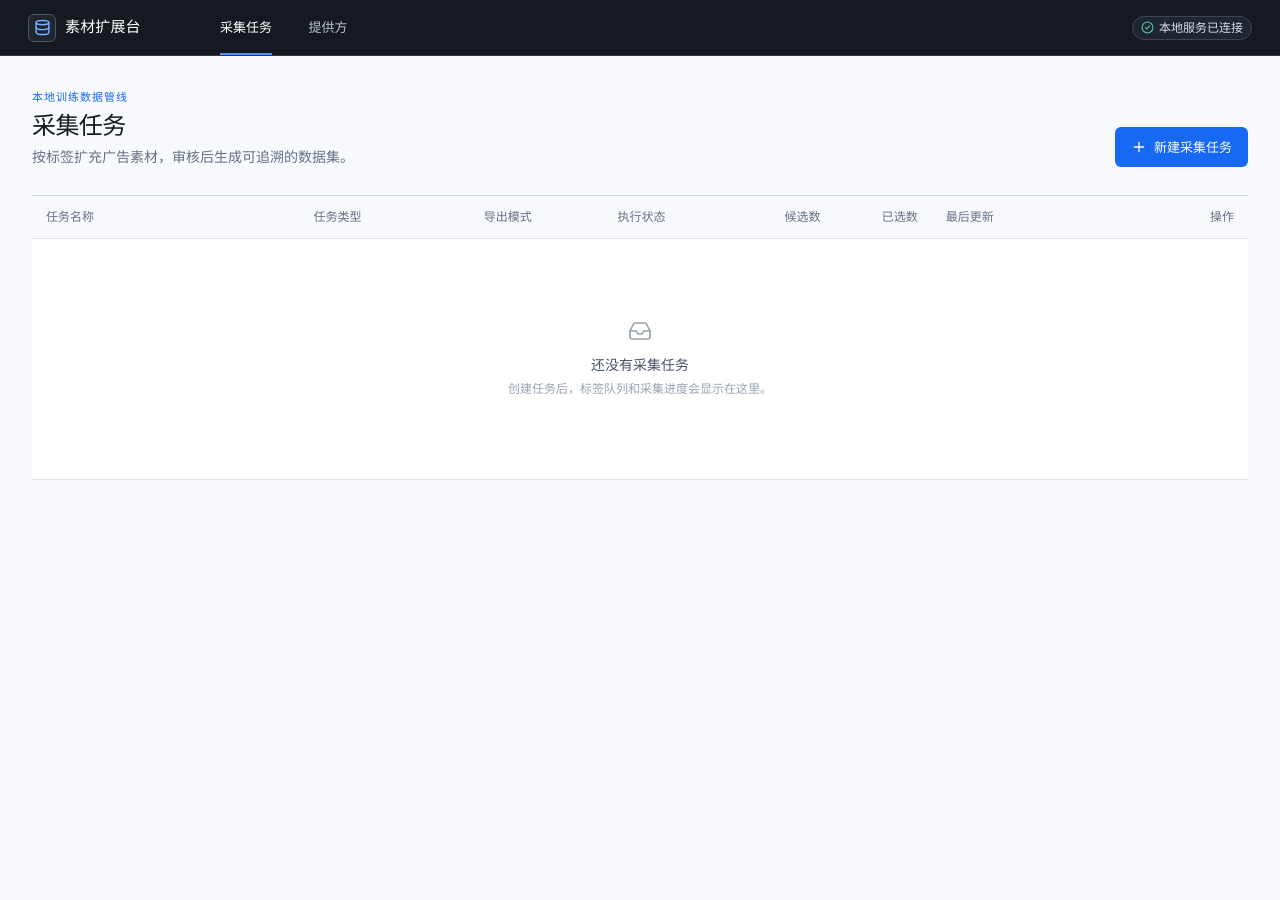
Test: 新建采集任务 › creates a job from a pasted taxonomy path
Click the button "新建采集任务" at [1182, 147], box [1115,127,1248,167]
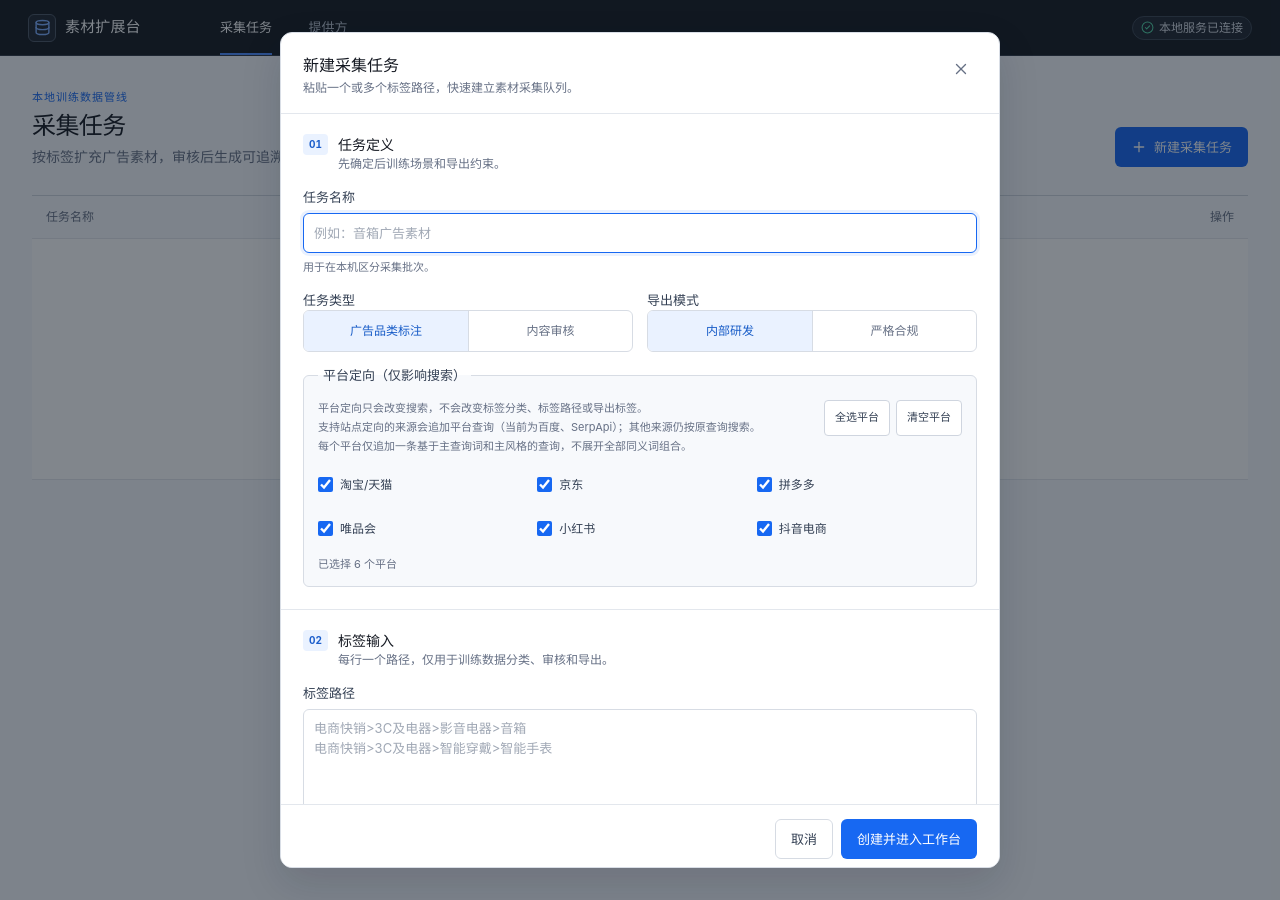
Type "音箱广告素材" into the field labelled "任务名称" at [640, 233], box [303,213,977,253]
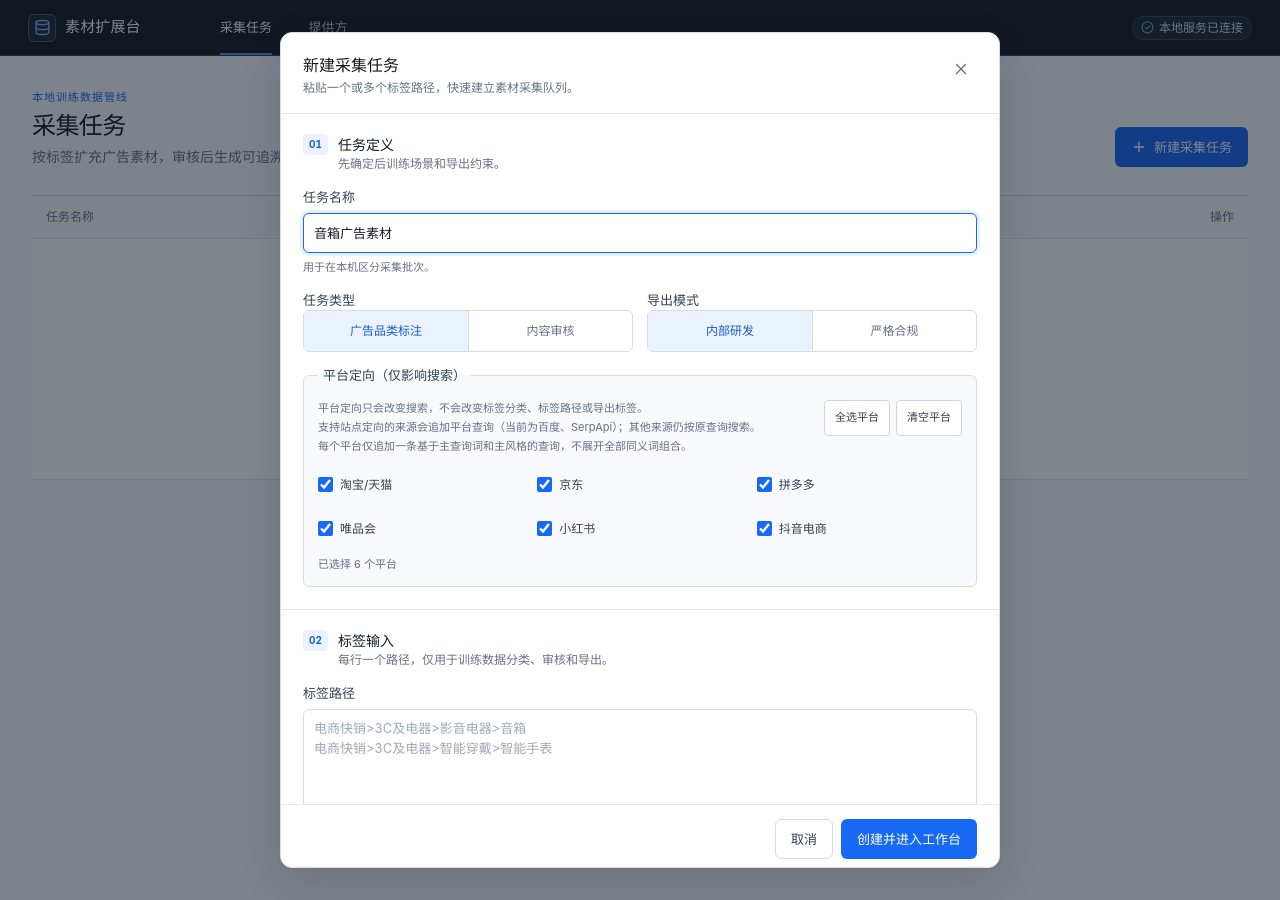
Type "电商快销>3C及电器>影音电器>音箱" into the text box labelled "标签路径" at [640, 768], box [303,709,977,827]
(page scrolled)
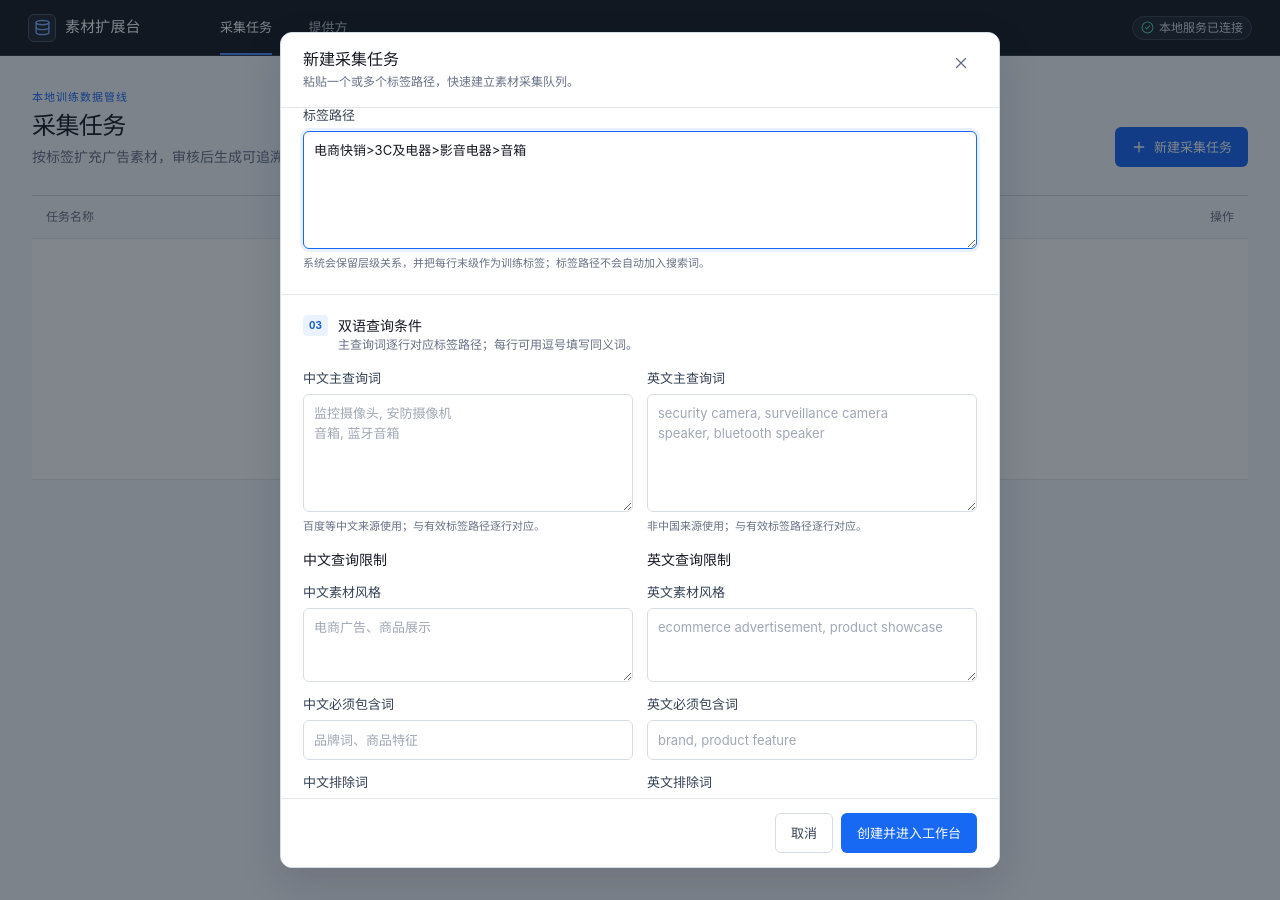
Type "音箱" into the text box labelled "中文主查询词" at [468, 453], box [303,394,633,512]
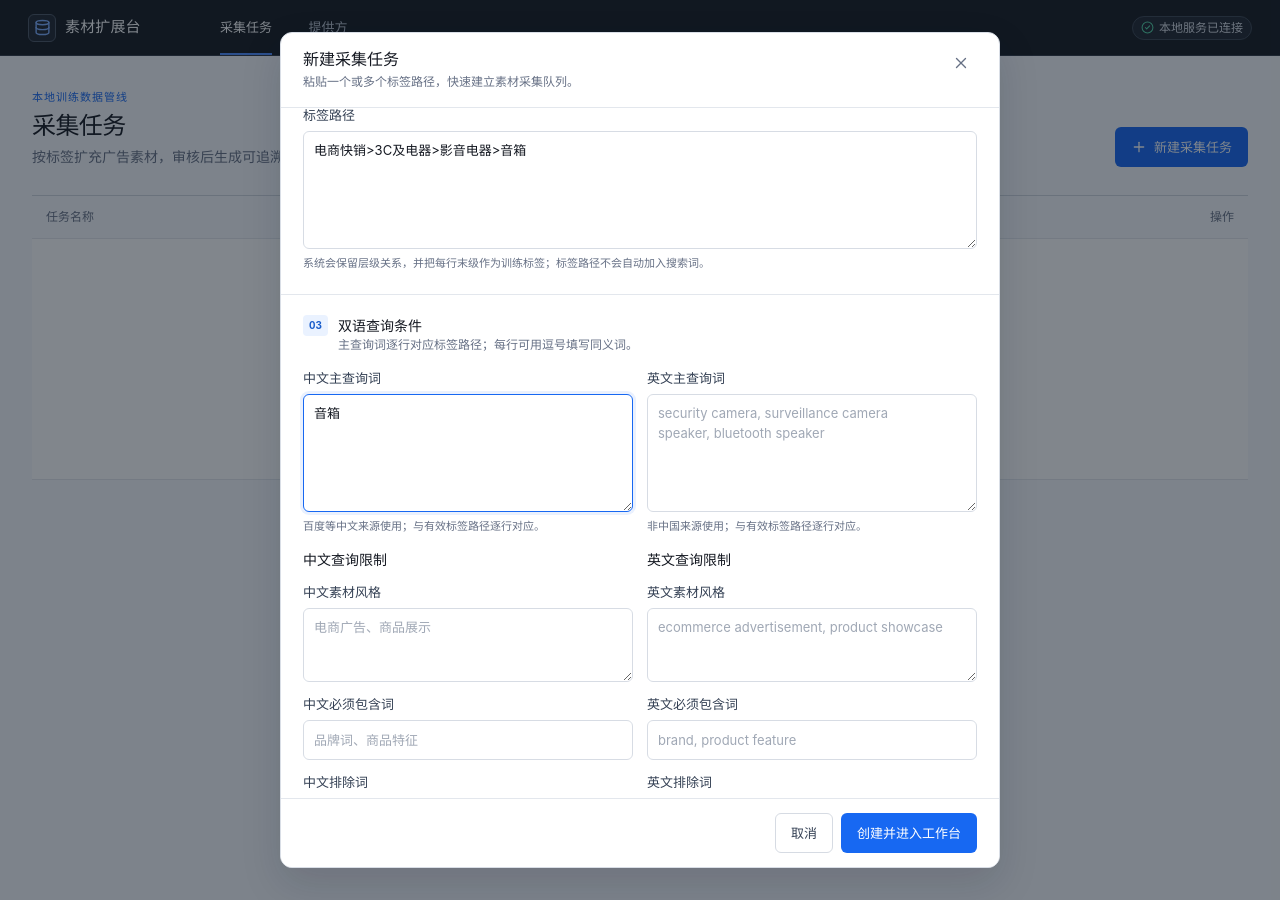
Type "speaker" into the text box labelled "英文主查询词" at [812, 453], box [647,394,977,512]
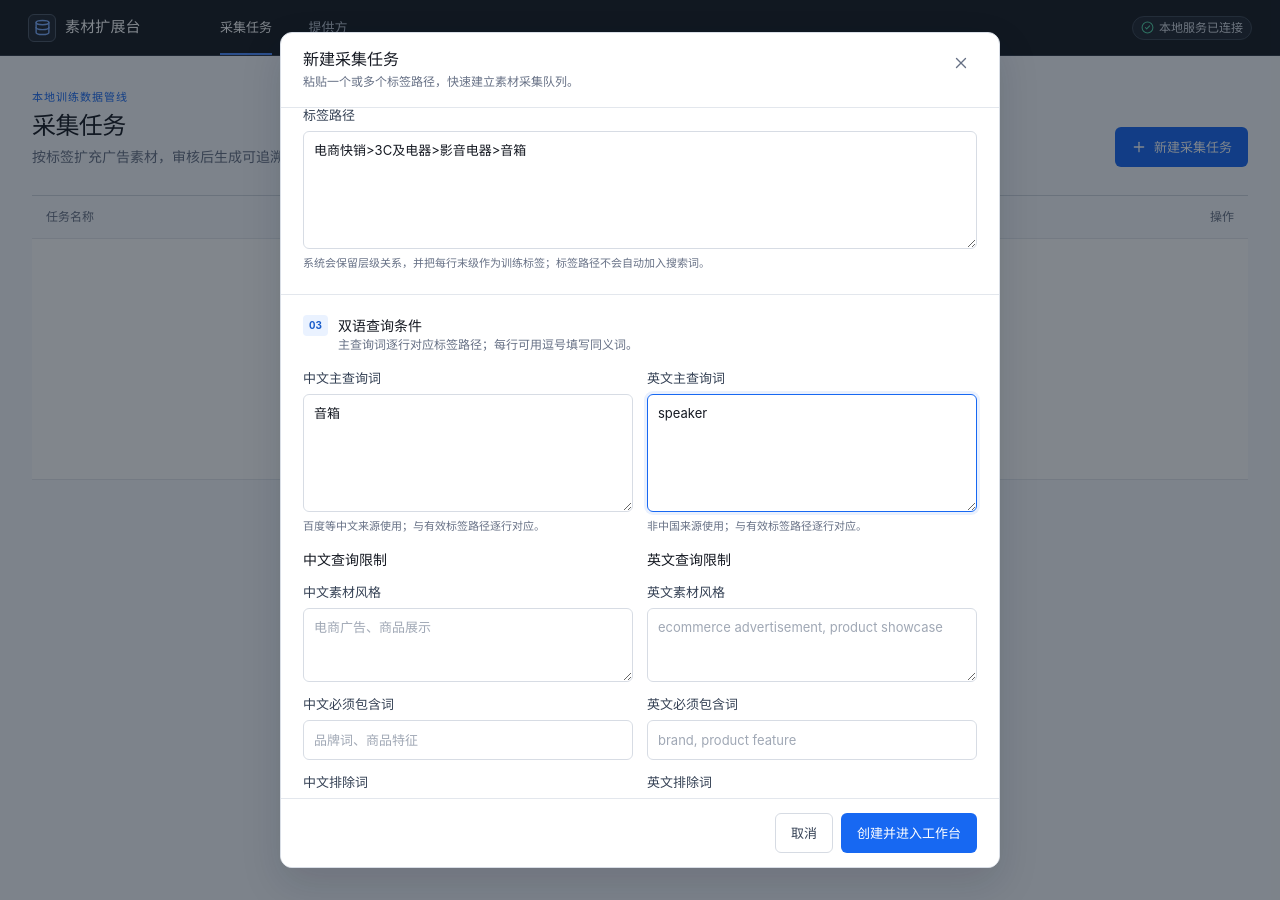
Click the button "创建并进入工作台" at [909, 833], box [841,813,977,853]
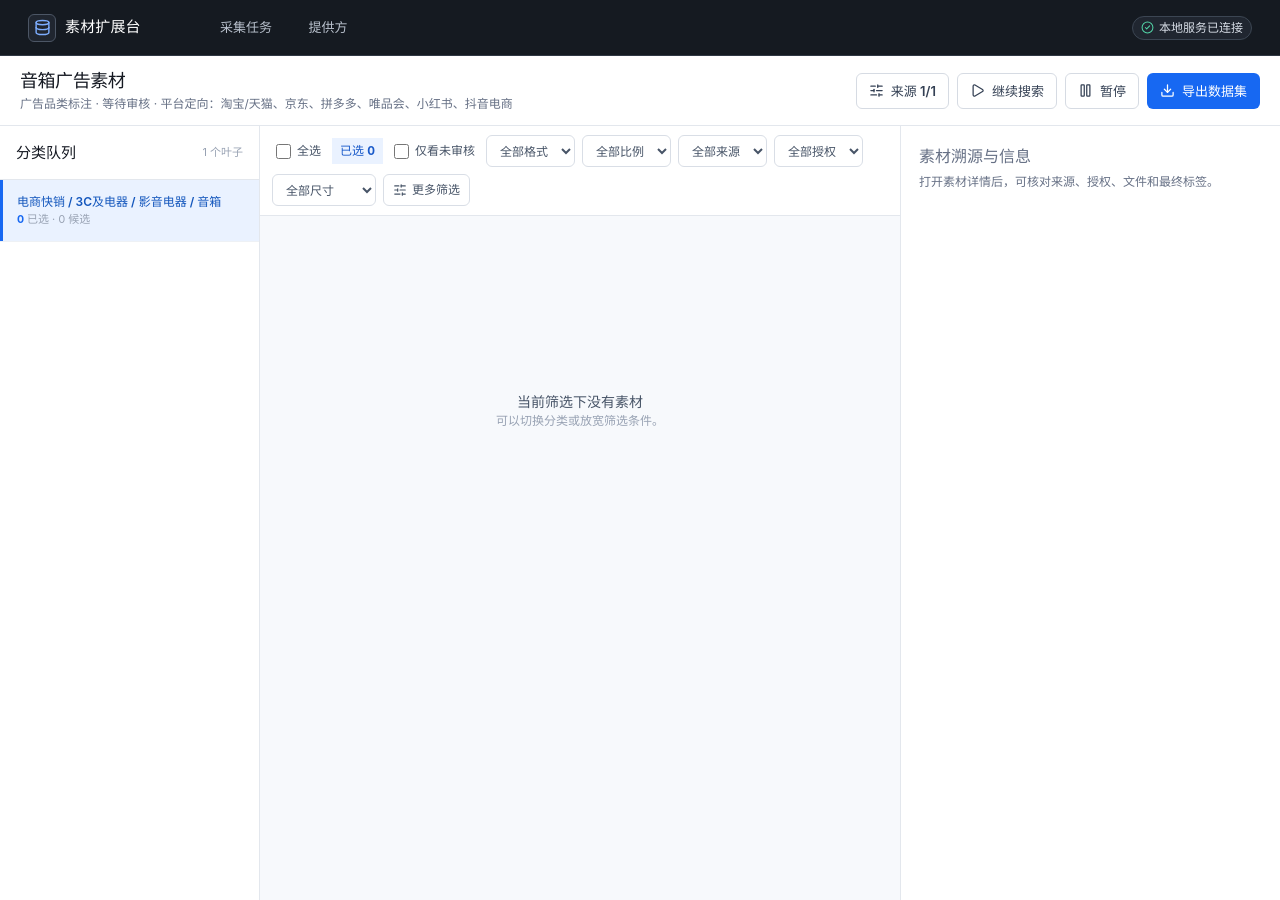
Check: the heading "音箱广告素材" is shown, box [20,70,125,91]
Check: the text "电商快销 / 3C及电器 / 影音电器 / 音箱" is shown, box [17,193,245,211]
